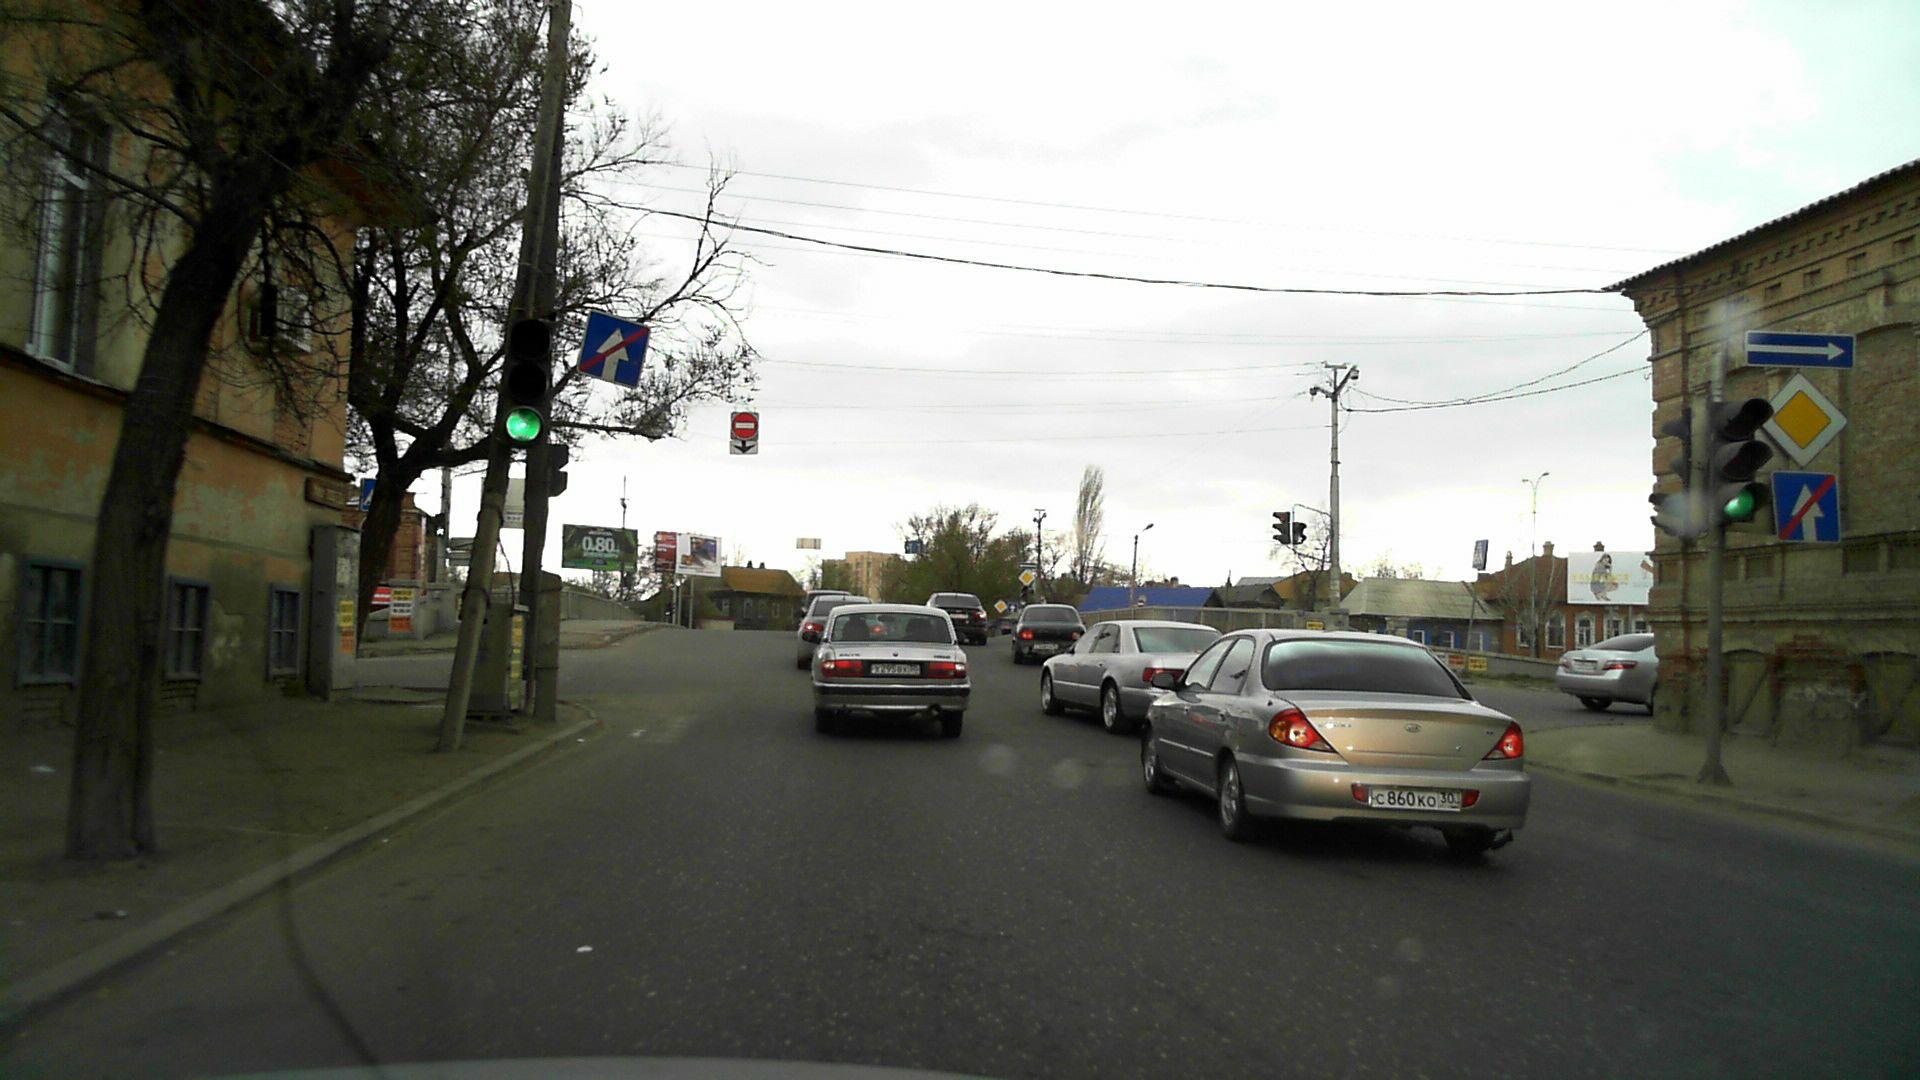2_1: (1753, 371, 1851, 467), (1018, 570, 1038, 585), (993, 599, 1007, 613)
3_1: (732, 411, 760, 439)
5_15_1: (905, 541, 923, 555)
5_19_2: (360, 475, 378, 510), (1470, 541, 1489, 568)
5_5: (1009, 603, 1018, 612)
5_6: (576, 309, 653, 388), (1770, 469, 1844, 547)
5_7_1: (1745, 328, 1857, 369)
5_7_2: (1018, 562, 1038, 568)
8_14: (729, 439, 757, 456)
